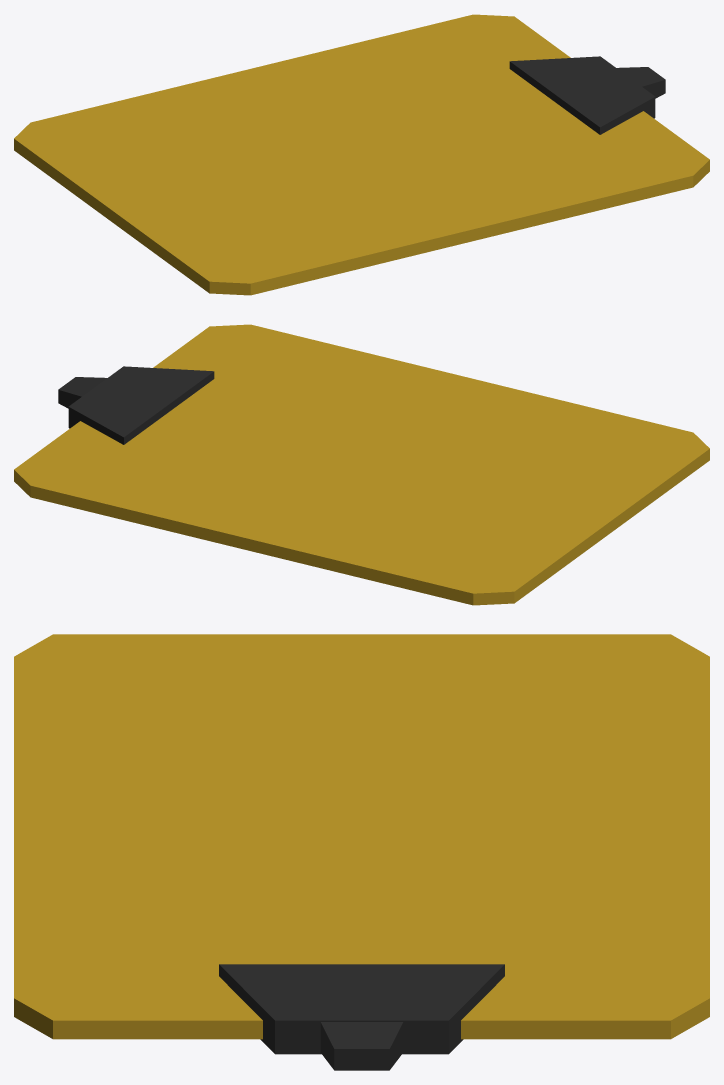
The model's file is Clipboard.FBX.
The picture shows the model from 3 angles, top to bottom: view 1: azimuth 30°, elevation 25°; view 2: azimuth 150°, elevation 25°; view 3: azimuth 270°, elevation 25°; orthographic projection. The views are drawn at different scales.
Visible parts, largest first — view 1: Clipboard; view 2: Clipboard; view 3: Clipboard.
Part boxes in pixels (<box>): Clipboard: <box>14,14,709,295</box>; Clipboard: <box>14,324,709,605</box>; Clipboard: <box>14,634,709,1070</box>.
Bounding box in the file's own units: 18.78 × 0.7014 × 13.13.
